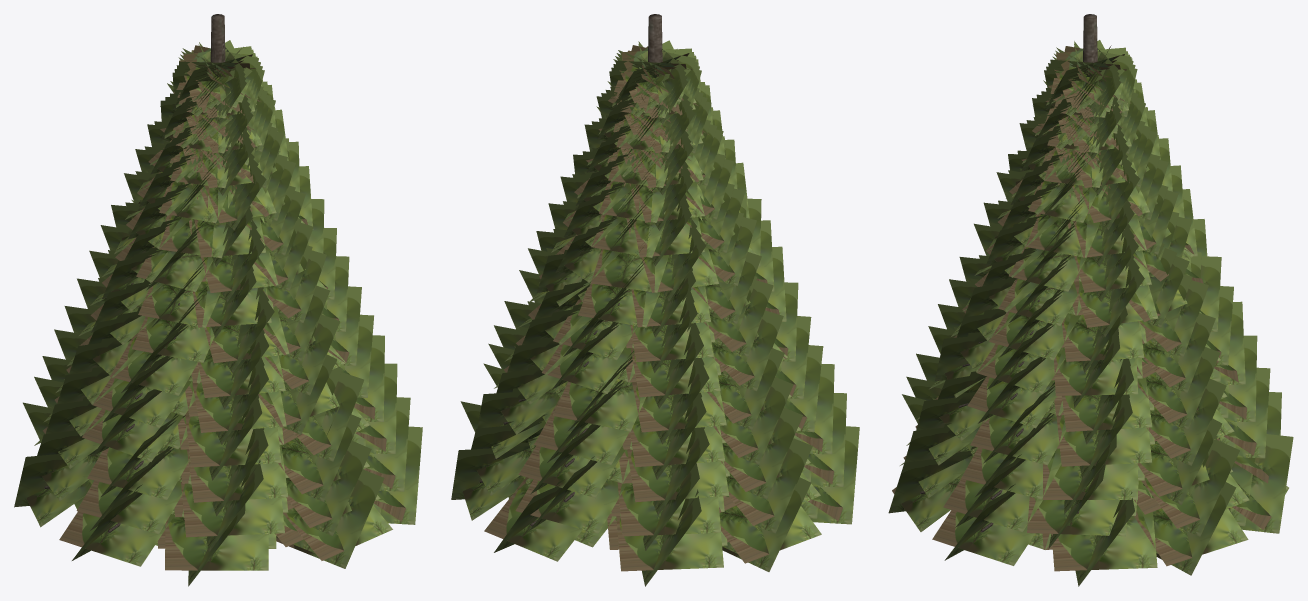
File: Pine_Evergreen.glb
The picture shows the model from 3 angles, left to right: view 1: azimuth 30°, elevation 25°; view 2: azimuth 150°, elevation 25°; view 3: azimuth 270°, elevation 25°; orthographic projection.
Visible parts, largest first — view 1: Pine_Evergreen; view 2: Pine_Evergreen; view 3: Pine_Evergreen.
Part boxes in pixels (<box>): Pine_Evergreen: <box>14,14,422,586</box>; Pine_Evergreen: <box>451,14,859,586</box>; Pine_Evergreen: <box>888,14,1293,586</box>.
Bounding box in the file's own units: 9.6 × 13 × 9.6.
2 materials, 2 textured.
